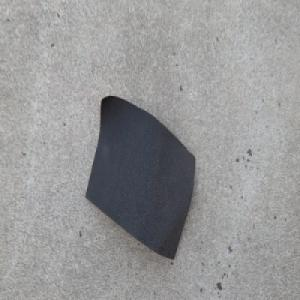PaintChip: (83, 92, 196, 262)
